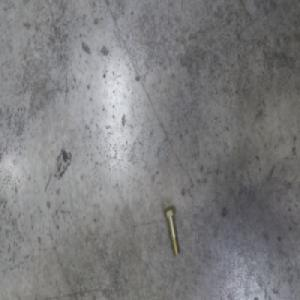Bolt: (161, 205, 179, 257)
